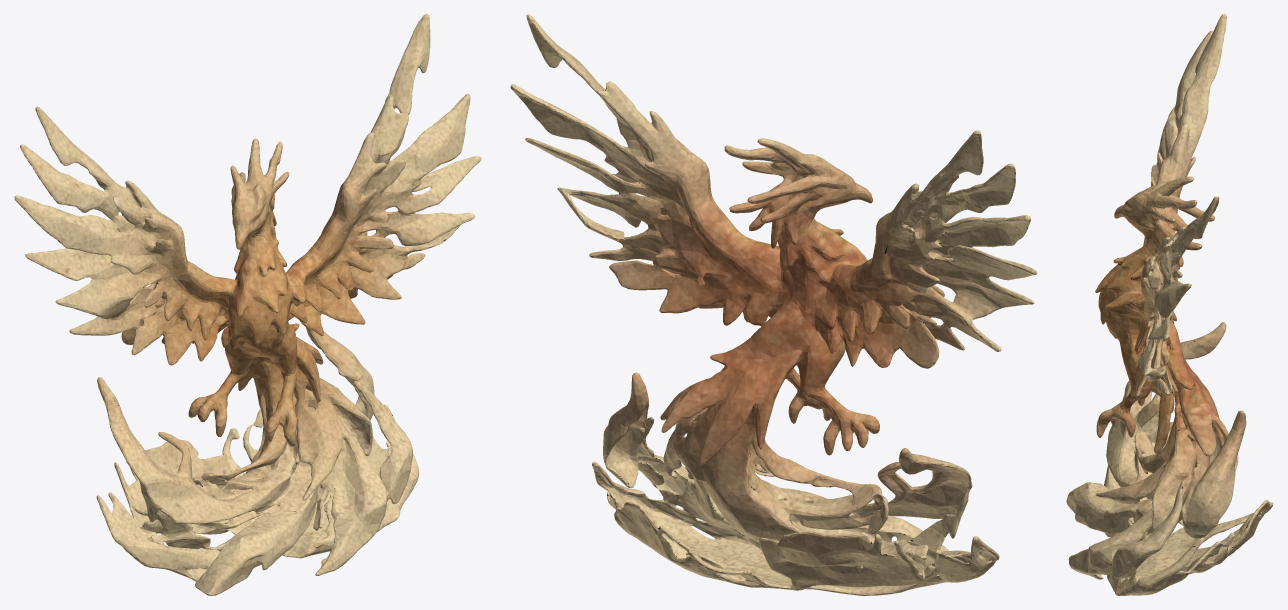
File: creature-phoenix.glb
3 views of the same model, side by side, from view 1: azimuth 30°, elevation 25°; view 2: azimuth 150°, elevation 25°; view 3: azimuth 270°, elevation 25° (orthographic). The views are drawn at different scales.
Parts seen in each view (by area): view 1: HeroDragonMesh; view 2: HeroDragonMesh; view 3: HeroDragonMesh.
Part boxes in pixels (x1=…): HeroDragonMesh: x1=14, y1=14, x2=481, y2=595; HeroDragonMesh: x1=510, y1=14, x2=1037, y2=595; HeroDragonMesh: x1=1066, y1=14, x2=1273, y2=595.
Bounding box in the file's own units: 2 × 1.97 × 0.8193.
1 material, 1 textured.
